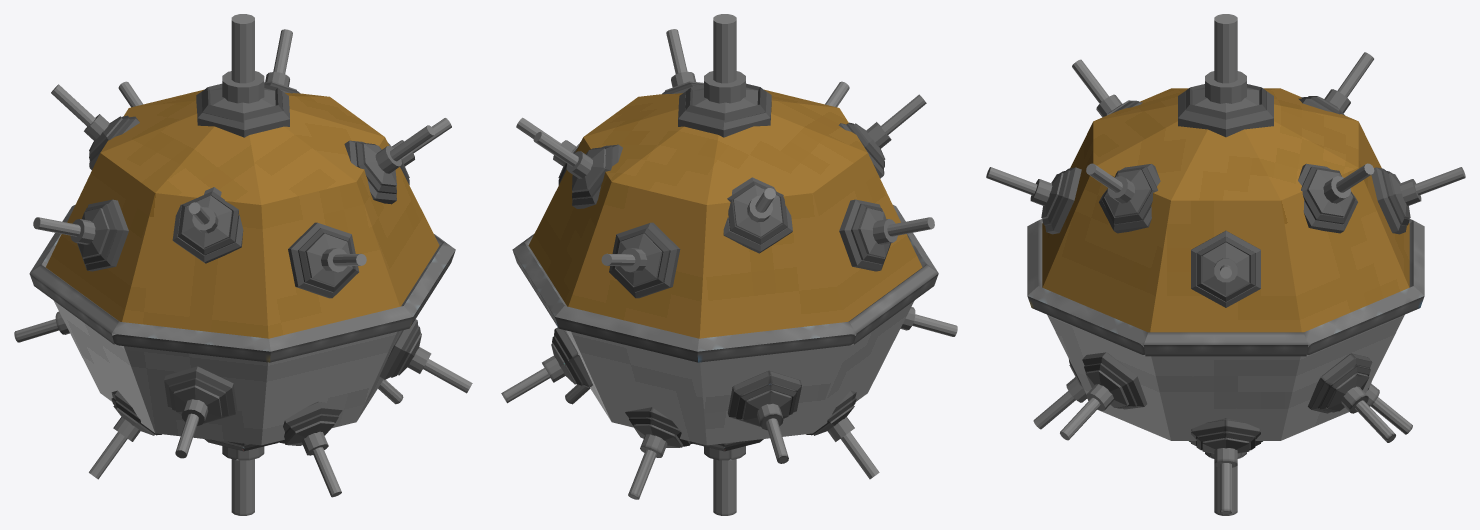
File: bomb.fbx
3 renders of one model, left to right at view 1: azimuth 30°, elevation 25°; view 2: azimuth 150°, elevation 25°; view 3: azimuth 270°, elevation 25°, orthographic.
Parts seen in each view (by area): view 1: bombBase, bombRing, bombMineRing5_16, bombMineRing1_16, bombMineRing5_17, bombMineRing3_4, bombMineRing1_3, bombMineRing3_3, bombMineRing1_11, bombMineRing1_1, bombMineRing2_16, bombMineRing2_4 (+23 smaller); view 2: bombBase, bombRing, bombMineRing5_16, bombMineRing1_16, bombMineRing5_17, bombMineRing1_6, bombMineRing3_5, bombMineRing3_6, bombMineRing1_10, bombMineRing1_1, bombMineRing2_16, bombMineRing4_16 (+21 smaller); view 3: bombBase, bombRing, bombMineRing1_16, bombMineRing5_16, bombMineRing3, bombMineRing1, bombMineRing2, bombMineRing3_2, bombMineRing3_7, bombMineRing1_13, bombMineRing4_16, bombMineRing1_14 (+24 smaller).
Part boxes in pixels (x1=…): bombBase: x1=45, y1=89, x2=439, y2=445; bombRing: x1=29, y1=204, x2=455, y2=362; bombMineRing5_16: x1=231, y1=14, x2=254, y2=83; bombMineRing1_16: x1=196, y1=91, x2=289, y2=137; bombMineRing5_17: x1=231, y1=459, x2=254, y2=515; bombMineRing3_4: x1=183, y1=195, x2=232, y2=248; bombMineRing1_3: x1=288, y1=222, x2=359, y2=298; bombMineRing3_3: x1=305, y1=233, x2=352, y2=285; bombMineRing1_11: x1=164, y1=366, x2=237, y2=423; bombMineRing1_1: x1=77, y1=199, x2=128, y2=271; bombMineRing2_16: x1=201, y1=83, x2=282, y2=122; bombMineRing2_4: x1=177, y1=191, x2=238, y2=255; bombBase: x1=528, y1=89, x2=922, y2=445; bombRing: x1=512, y1=205, x2=938, y2=362; bombMineRing5_16: x1=713, y1=14, x2=736, y2=83; bombMineRing1_16: x1=678, y1=91, x2=771, y2=137; bombMineRing5_17: x1=713, y1=459, x2=736, y2=515; bombMineRing1_6: x1=609, y1=222, x2=680, y2=298; bombMineRing3_5: x1=733, y1=185, x2=782, y2=237; bombMineRing3_6: x1=615, y1=233, x2=662, y2=285; bombMineRing1_10: x1=728, y1=370, x2=801, y2=426; bombMineRing1_1: x1=839, y1=199, x2=891, y2=271; bombMineRing2_16: x1=685, y1=83, x2=766, y2=122; bombMineRing4_16: x1=704, y1=71, x2=745, y2=103; bombBase: x1=1042, y1=88, x2=1409, y2=440; bombRing: x1=1027, y1=218, x2=1424, y2=356; bombMineRing1_16: x1=1178, y1=91, x2=1273, y2=137; bombMineRing5_16: x1=1214, y1=14, x2=1237, y2=83; bombMineRing3: x1=1202, y1=242, x2=1249, y2=295; bombMineRing1: x1=1191, y1=230, x2=1260, y2=307; bombMineRing2: x1=1196, y1=236, x2=1255, y2=301; bombMineRing3_2: x1=1104, y1=169, x2=1151, y2=217; bombMineRing3_7: x1=1307, y1=169, x2=1352, y2=217; bombMineRing1_13: x1=1308, y1=353, x2=1372, y2=413; bombMineRing4_16: x1=1205, y1=71, x2=1246, y2=103; bombMineRing1_14: x1=1082, y1=352, x2=1147, y2=409.
Size of the model in its own units: 128 by 145 by 128.
Materials: 20 (20 with a texture image).
